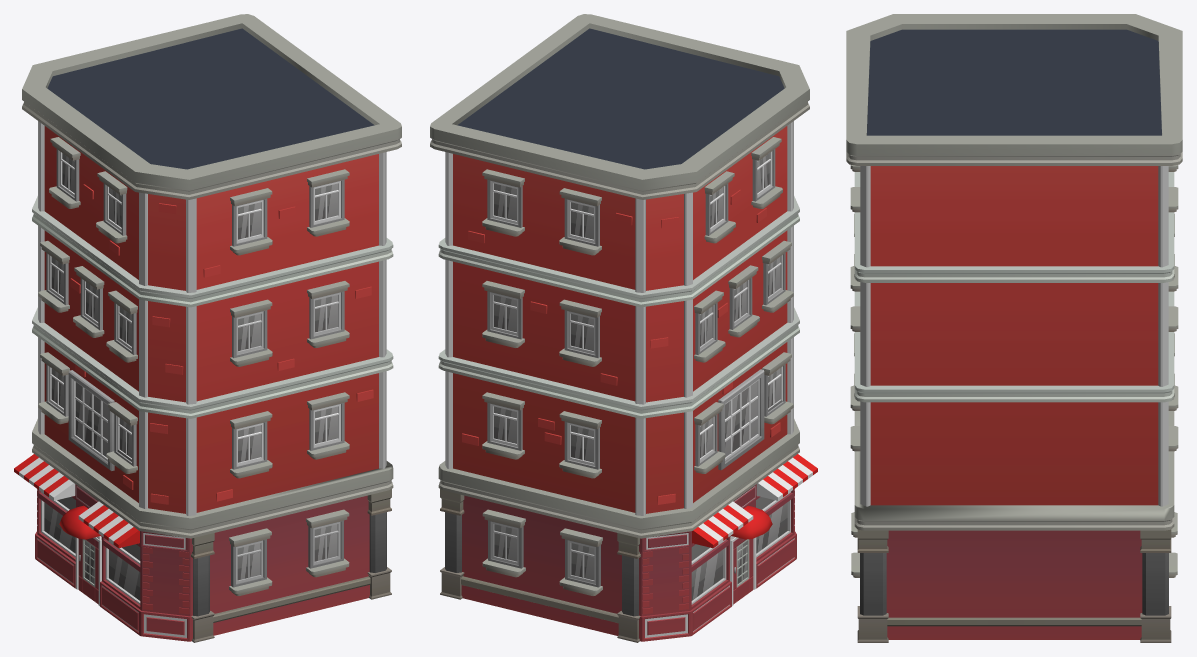
File: Building_3_3_G.fbx
3 renders of one model, left to right at view 1: azimuth 30°, elevation 25°; view 2: azimuth 150°, elevation 25°; view 3: azimuth 270°, elevation 25°, orthographic. The views are drawn at different scales.
Parts seen in each view (by area): view 1: Building 3_3_G; view 2: Building 3_3_G; view 3: Building 3_3_G.
Part boxes in pixels (bbox=[...]): Building 3_3_G: bbox=[14, 14, 401, 642]; Building 3_3_G: bbox=[430, 14, 817, 642]; Building 3_3_G: bbox=[846, 14, 1182, 642].
Bounding box in the file's own units: 808 × 1383 × 837.
